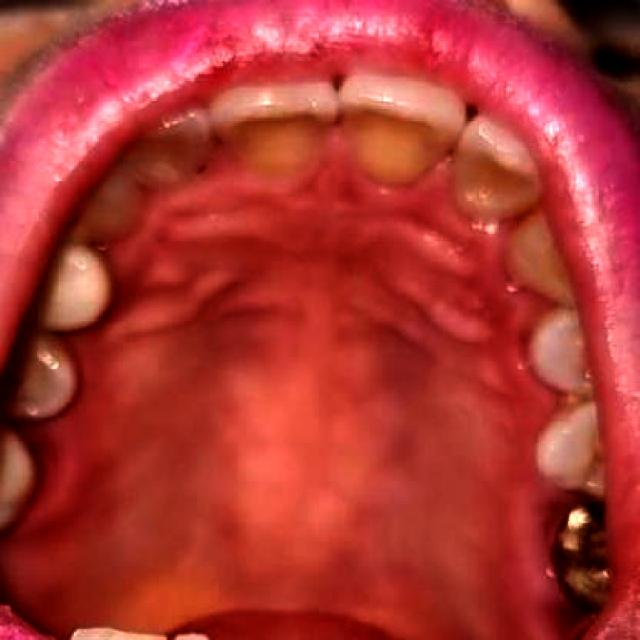Plaque: (499, 291, 587, 548)
